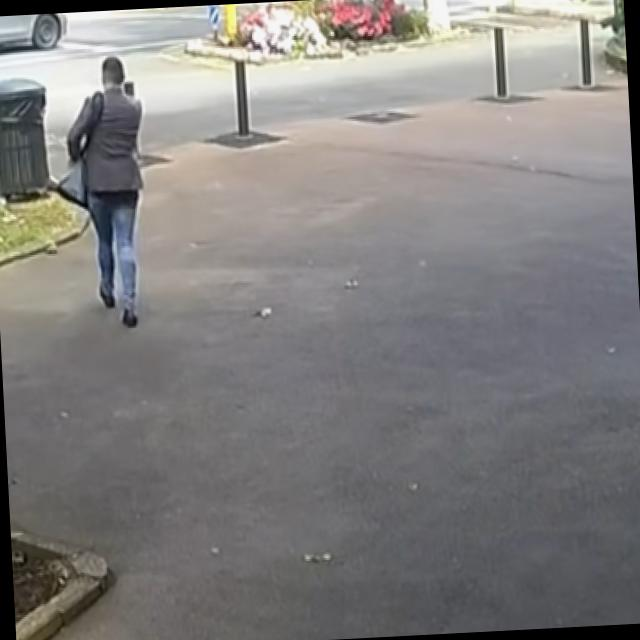person: (61, 56, 152, 329)
